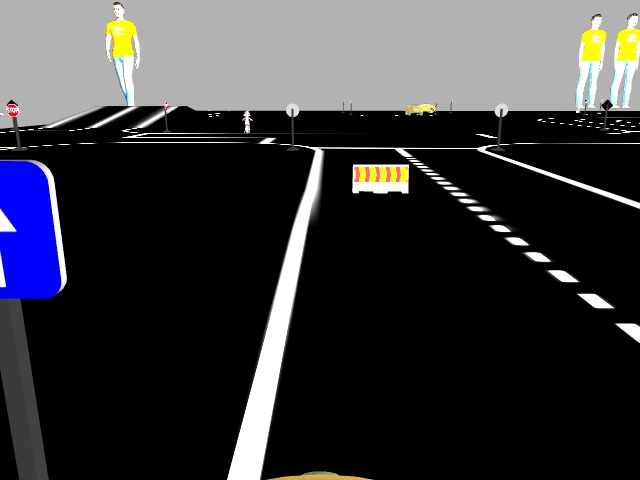ClosedRoadStand: (351, 163, 407, 192)
OneWay: (0, 162, 64, 293)
